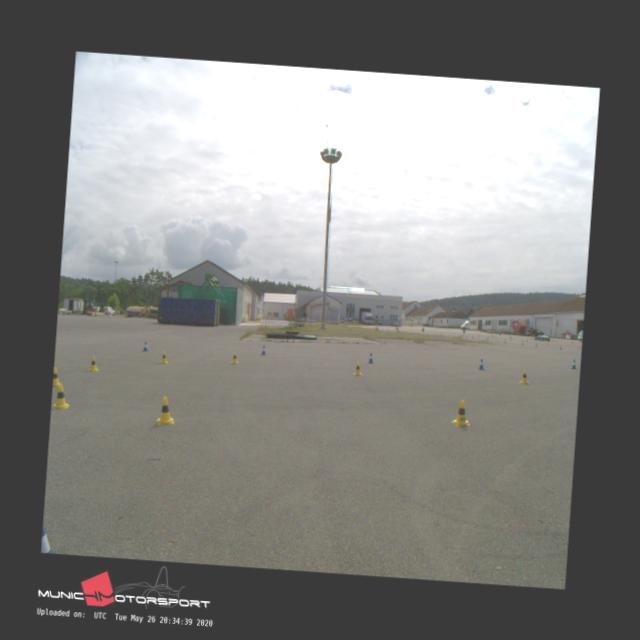blue_cone: (478, 358, 484, 369), (142, 340, 148, 350), (260, 344, 266, 354), (570, 358, 576, 368), (368, 352, 373, 363)
yellow_cone: (156, 396, 176, 426), (51, 382, 70, 410), (451, 398, 470, 426), (518, 368, 529, 384), (52, 367, 61, 386), (88, 356, 99, 370), (352, 360, 362, 374), (158, 350, 168, 362), (230, 351, 238, 362)
